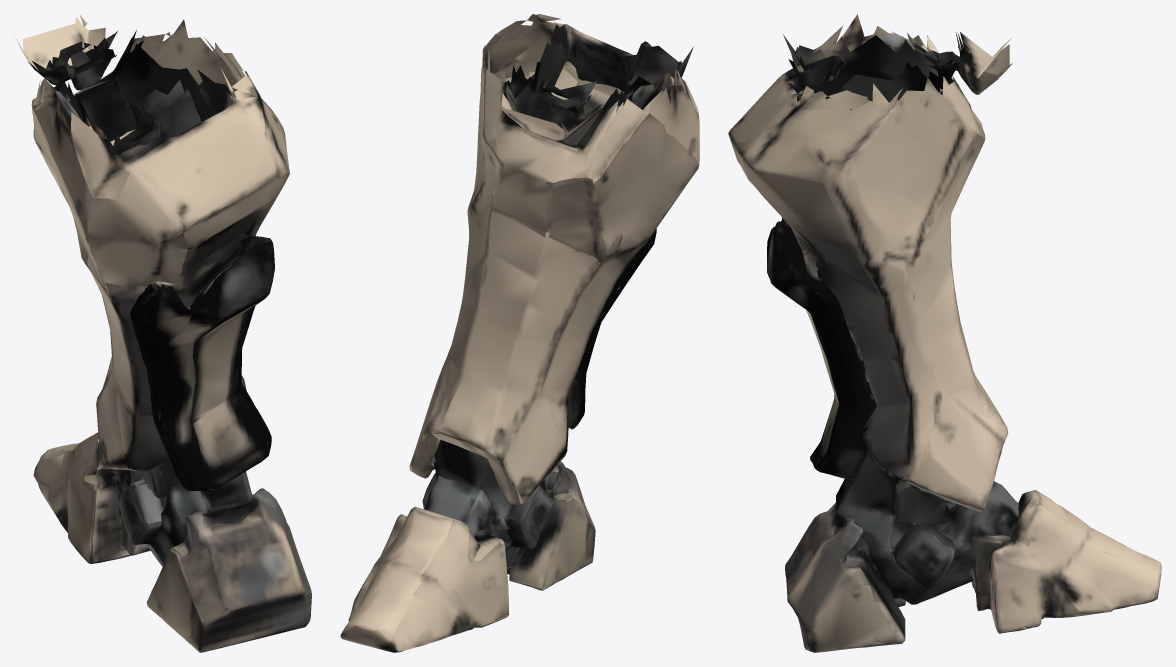
File: wanzer_local_leg_right_001_lower.glb
The picture shows the model from 3 angles, left to right: view 1: azimuth 30°, elevation 25°; view 2: azimuth 150°, elevation 25°; view 3: azimuth 270°, elevation 25°; orthographic projection. The views are drawn at different scales.
Parts seen in each view (by area): view 1: W_leg_right_lower.001; view 2: W_leg_right_lower.001; view 3: W_leg_right_lower.001.
Boxes of the visible parts, x1,y1,x2,y2 form: W_leg_right_lower.001: (15,15,311,652); W_leg_right_lower.001: (340,14,699,652); W_leg_right_lower.001: (728,14,1161,652).
Bounding box in the file's own units: 0.691 × 1.66 × 1.19.
Materials: 2 (2 with a texture image).
